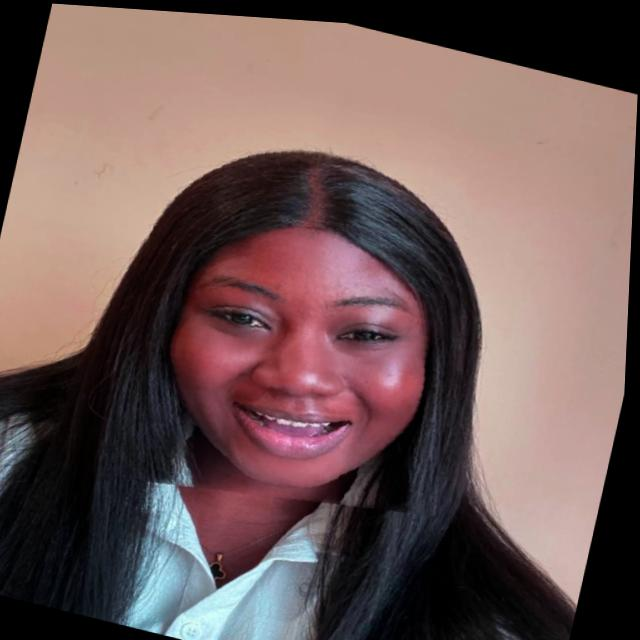sad: (95, 101, 501, 539)
